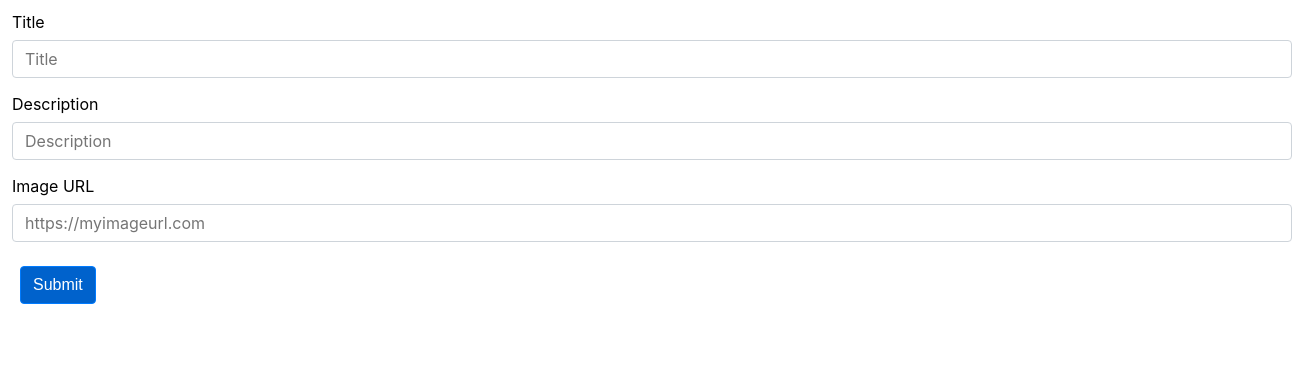
Test case: Shows errors
Click the button "Submit" at (58, 285), box [20, 266, 96, 304]
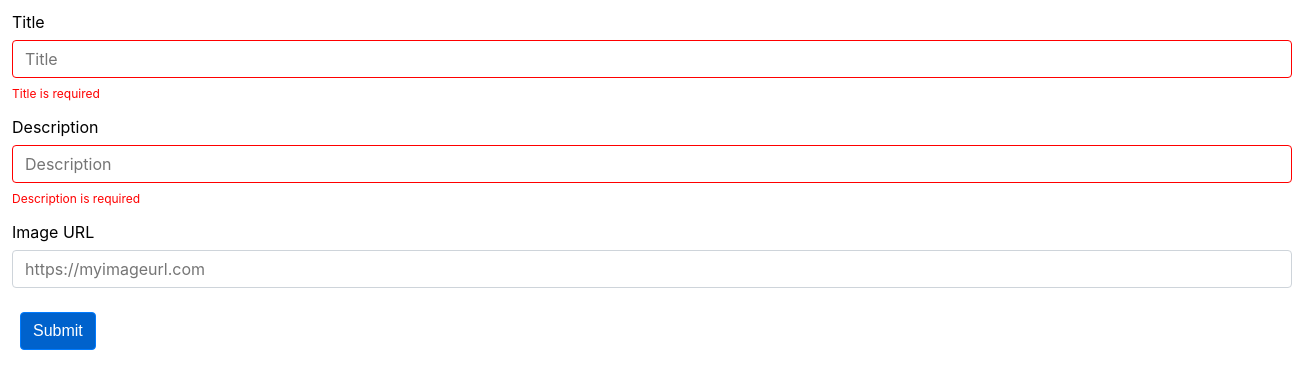
Expected: the text "Title is required" is shown, [12, 86, 100, 101]
Expected: the text "Description is required" is shown, [12, 191, 140, 206]
